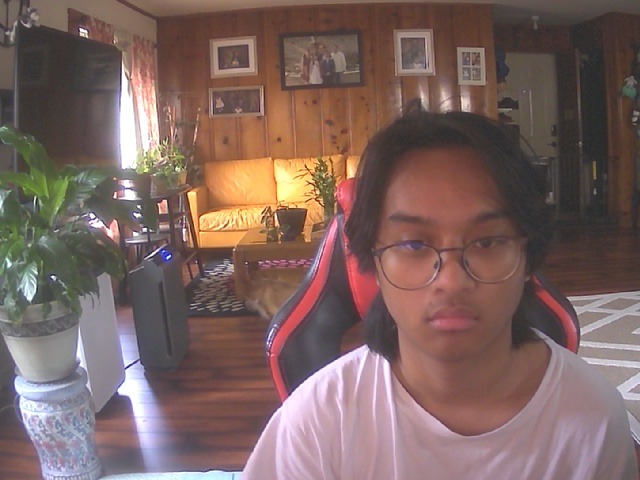neutral: (369, 131, 538, 366)
